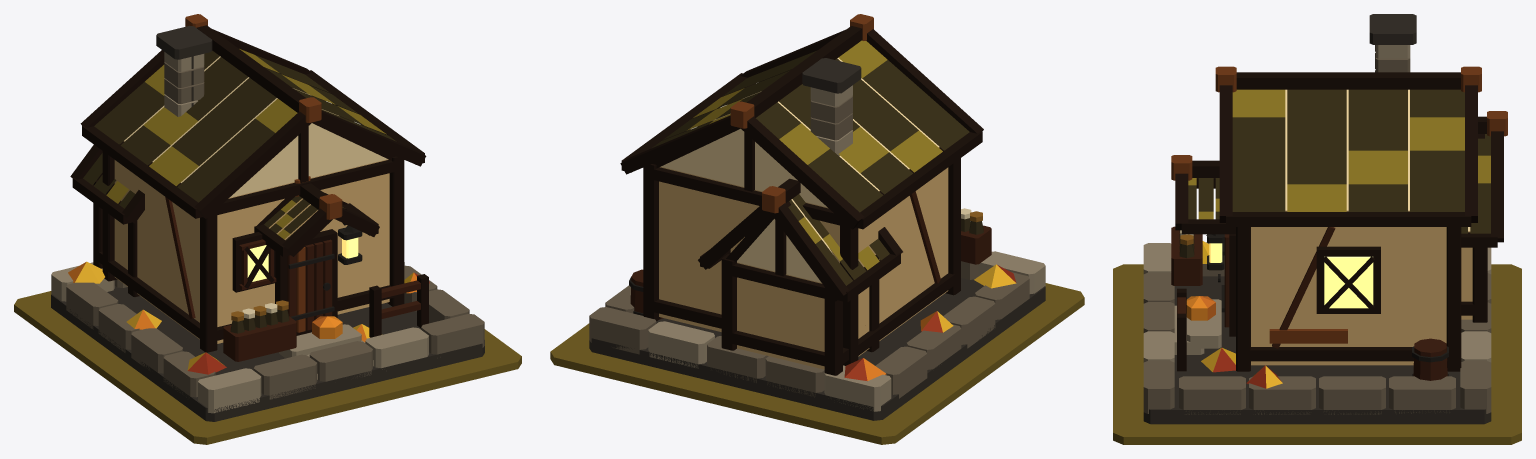
File: cottage_t4.glb
3 renders of one model, left to right at view 1: azimuth 30°, elevation 25°; view 2: azimuth 150°, elevation 25°; view 3: azimuth 270°, elevation 25°, orthographic. The views are drawn at different scales.
Parts seen in each view (by area): view 1: MMR | cottage | T04 Architecture.001, MMR | cottage | Tier 04 Ground.001, MMR | cottage | T04 Autumn Dressing.001; view 2: MMR | cottage | T04 Architecture.001, MMR | cottage | Tier 04 Ground.001, MMR | cottage | T04 Autumn Dressing.001; view 3: MMR | cottage | T04 Architecture.001, MMR | cottage | Tier 04 Ground.001, MMR | cottage | T04 Autumn Dressing.001.
Part boxes in pixels (bbox=[...]): MMR | cottage | T04 Architecture.001: bbox=[51, 14, 484, 421]; MMR | cottage | Tier 04 Ground.001: bbox=[14, 291, 521, 444]; MMR | cottage | T04 Autumn Dressing.001: bbox=[68, 261, 429, 374]; MMR | cottage | T04 Architecture.001: bbox=[589, 14, 1045, 420]; MMR | cottage | Tier 04 Ground.001: bbox=[550, 283, 1084, 444]; MMR | cottage | T04 Autumn Dressing.001: bbox=[844, 264, 1016, 381]; MMR | cottage | T04 Architecture.001: bbox=[1143, 14, 1507, 424]; MMR | cottage | Tier 04 Ground.001: bbox=[1113, 264, 1521, 444]; MMR | cottage | T04 Autumn Dressing.001: bbox=[1186, 241, 1282, 388].
Bounding box in the file's own units: 2.35 × 1.96 × 2.35.
Materials: 2 (1 with a texture image).
